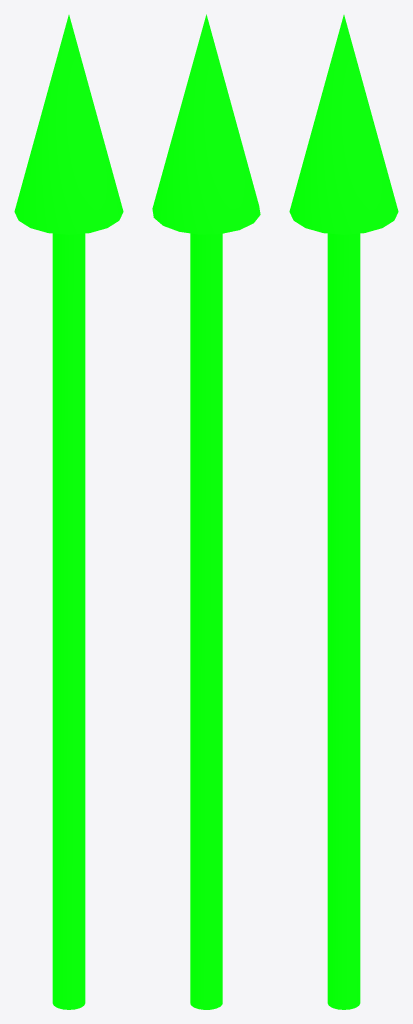
File: arrowY.gltf
3 renders of one model, left to right at view 1: azimuth 90°, elevation 25°; view 2: azimuth 150°, elevation 25°; view 3: azimuth 270°, elevation 25°, orthographic.
Parts seen in each view (by area): view 1: axis_Y; view 2: axis_Y; view 3: axis_Y.
Part boxes in pixels (left/top/right/bottom): axis_Y: left=14, top=15, right=123, bottom=1009; axis_Y: left=152, top=14, right=260, bottom=1009; axis_Y: left=289, top=15, right=398, bottom=1009.
Size of the model in its own units: 0.1 by 1 by 0.1.
